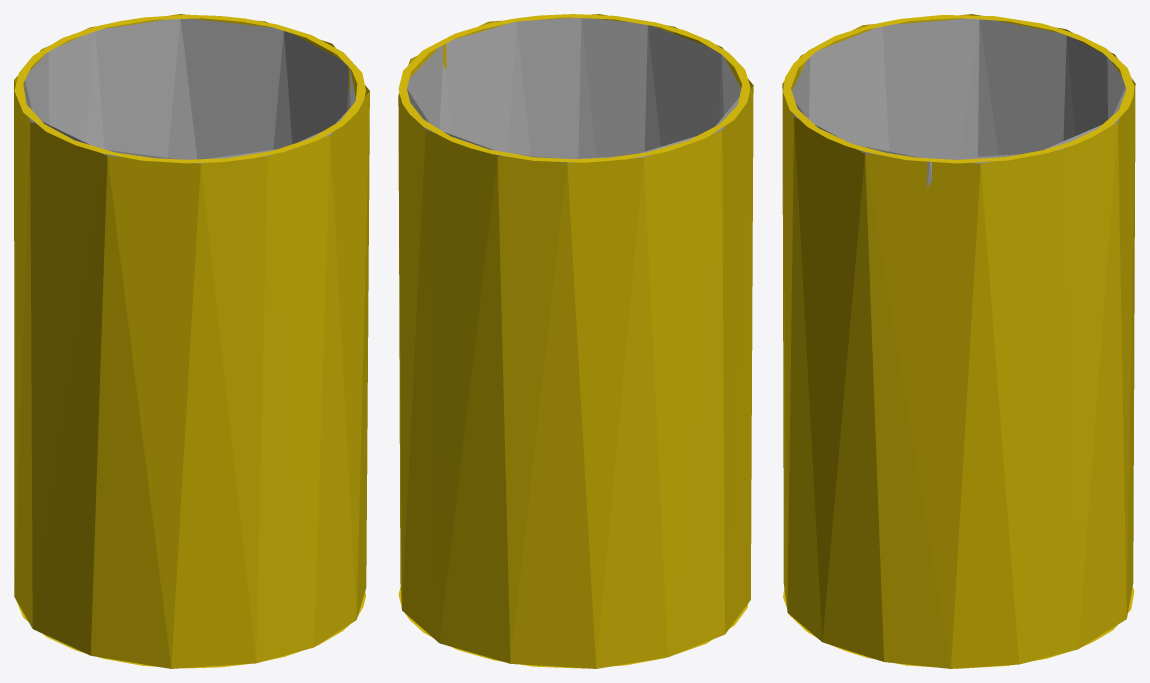
Rendered from mod_lun_jaune.dae.
3 renders of one model, left to right at view 1: azimuth 30°, elevation 25°; view 2: azimuth 150°, elevation 25°; view 3: azimuth 270°, elevation 25°, orthographic.
Visible parts, largest first — view 1: ElemYello6; view 2: ElemYello6; view 3: ElemYello6.
Boxes of the visible parts, box(x1,y1,x2,y2) form: ElemYello6: box(14, 14, 369, 668); ElemYello6: box(398, 14, 753, 668); ElemYello6: box(782, 14, 1135, 668).
Bounding box in the file's own units: 0.0636 × 0.0633 × 0.1.
